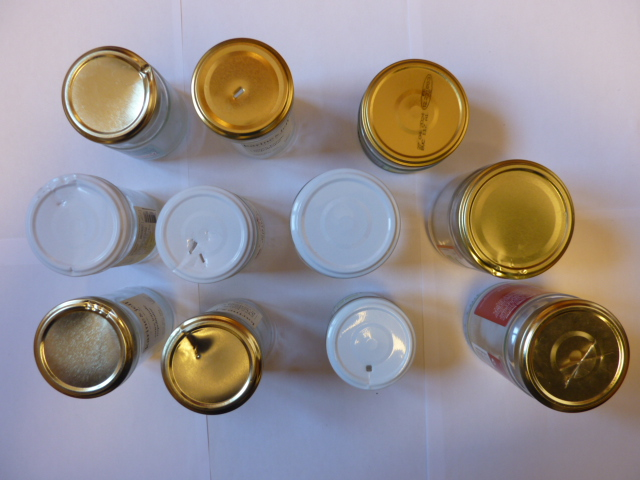damaged: (188, 36, 296, 140), (25, 175, 127, 277), (60, 45, 159, 143)
